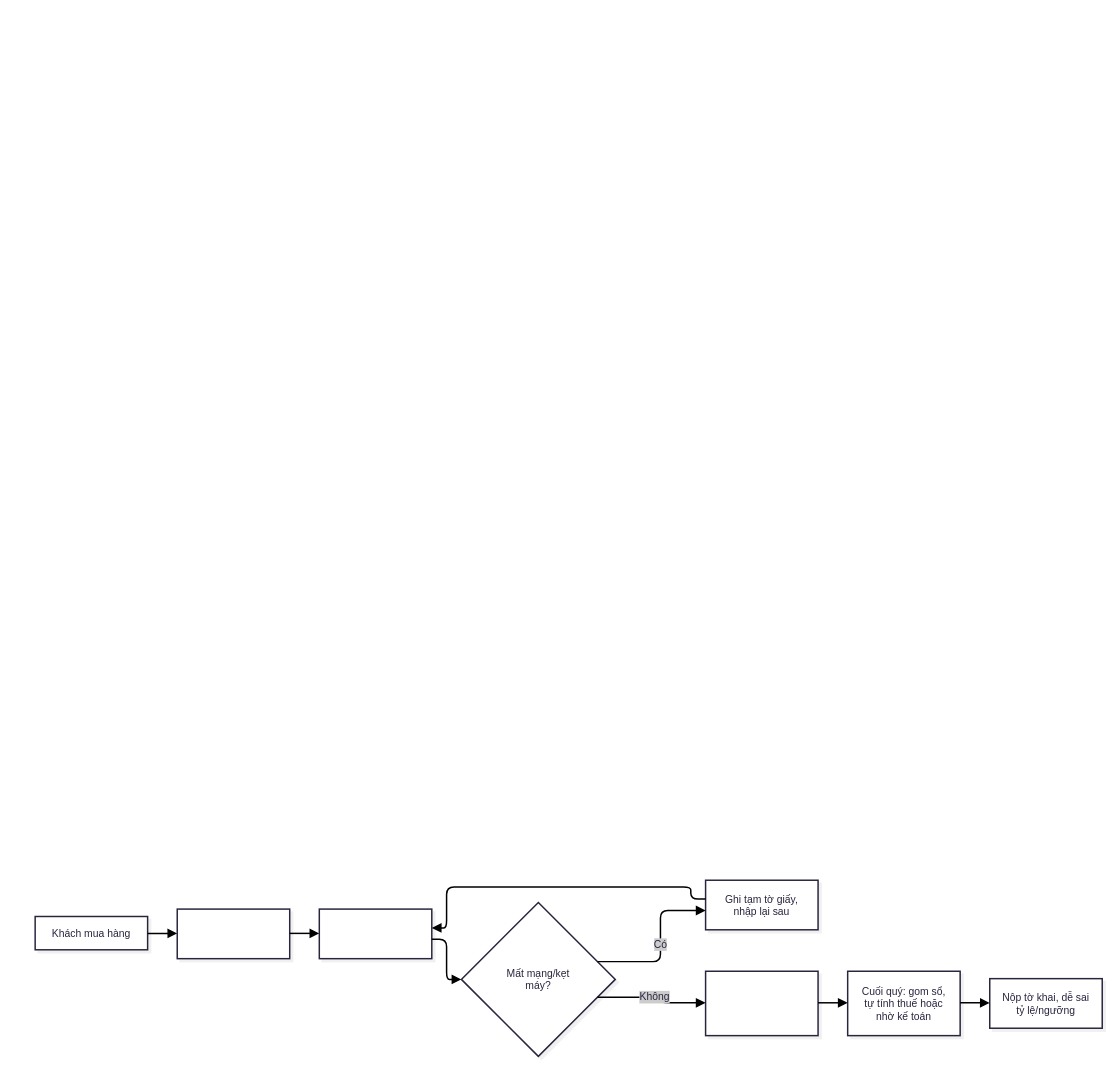
Some shapes in this 1118 by 1072 pixel diagram are drawn without their labels. The shapes that lost their labels are listed below. From the top down, each one's centre as x and y in pixels, then its label:
At (234,935): "Chủ hộ nhập giá, tính tiền tay".
At (376,935): "Ghi sổ giấy cuối ngày".
At (762,1004): "Xuất hóa đơn nếu khách yêu cầu".
